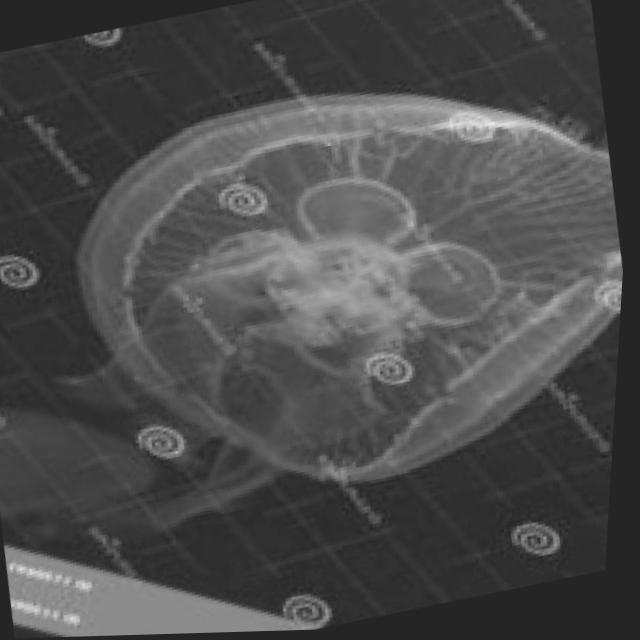Moon-jellyfish: (23, 23, 638, 545)
